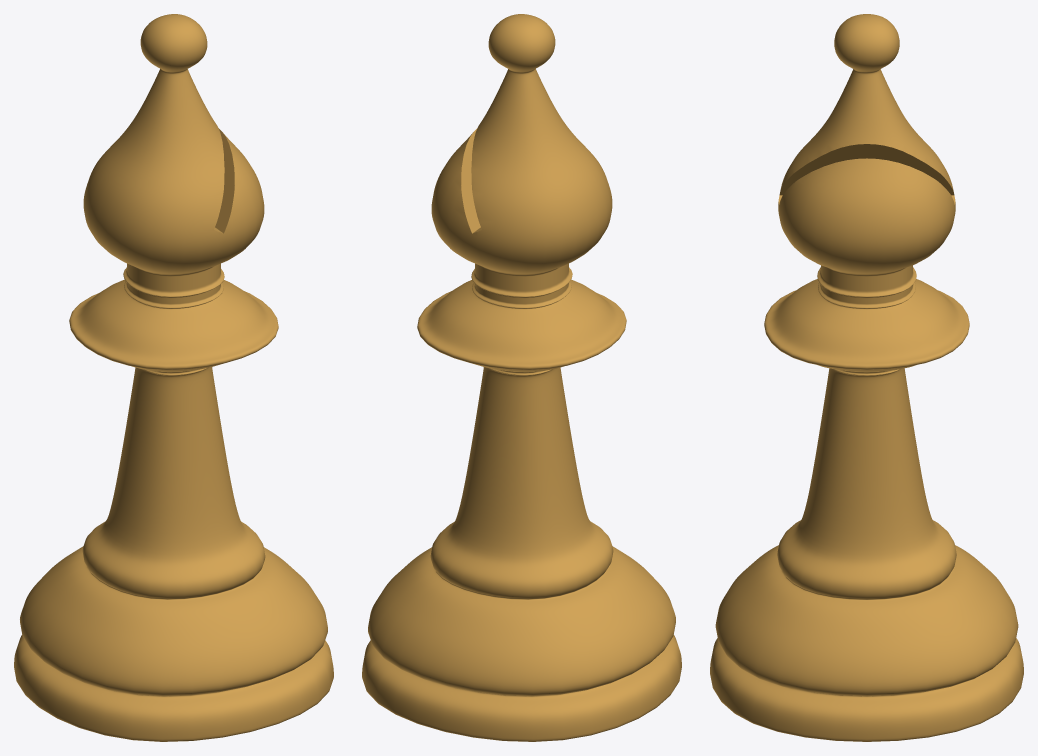
The model's file is bishop.obj.
3 views of the same model, side by side, from view 1: azimuth 30°, elevation 25°; view 2: azimuth 150°, elevation 25°; view 3: azimuth 270°, elevation 25° (orthographic).
Parts seen in each view (by area): view 1: fou.004; view 2: fou.004; view 3: fou.004.
Boxes of the visible parts, x1,y1,x2,y2 form: fou.004: (14,14,333,741); fou.004: (362,14,681,741); fou.004: (710,14,1023,741).
Size of the model in its own units: 0.3528 by 0.8194 by 0.3528.
